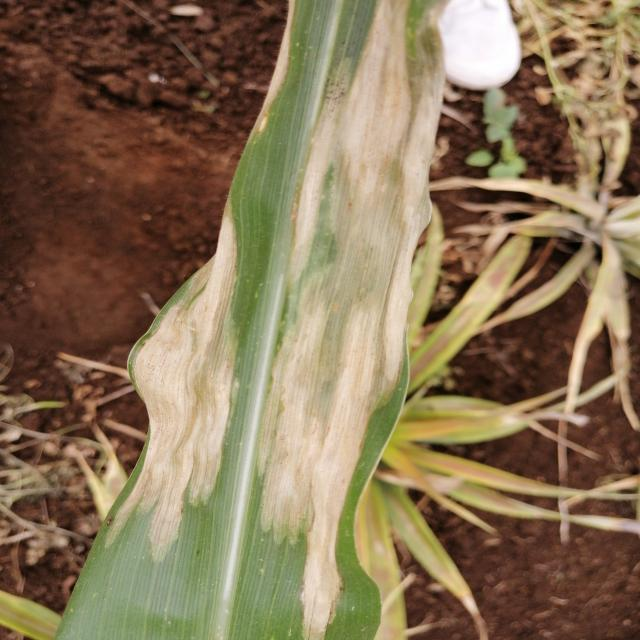Corn_Leaf_Blight: (132, 154, 449, 565)
